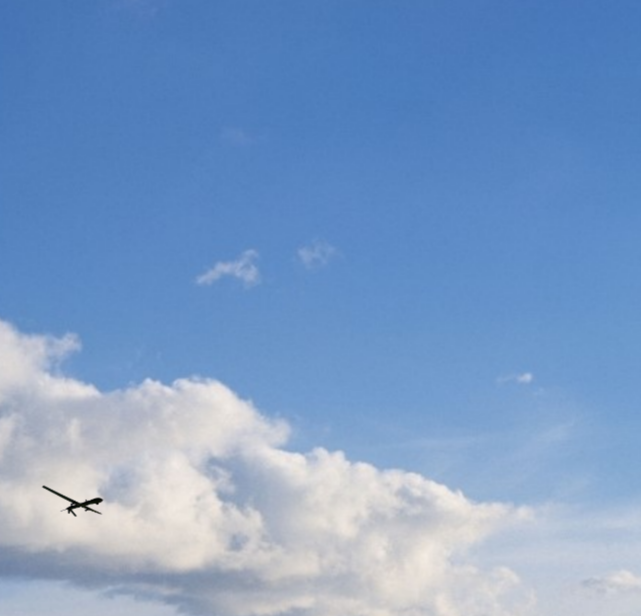military drone: (42, 485, 103, 516)
